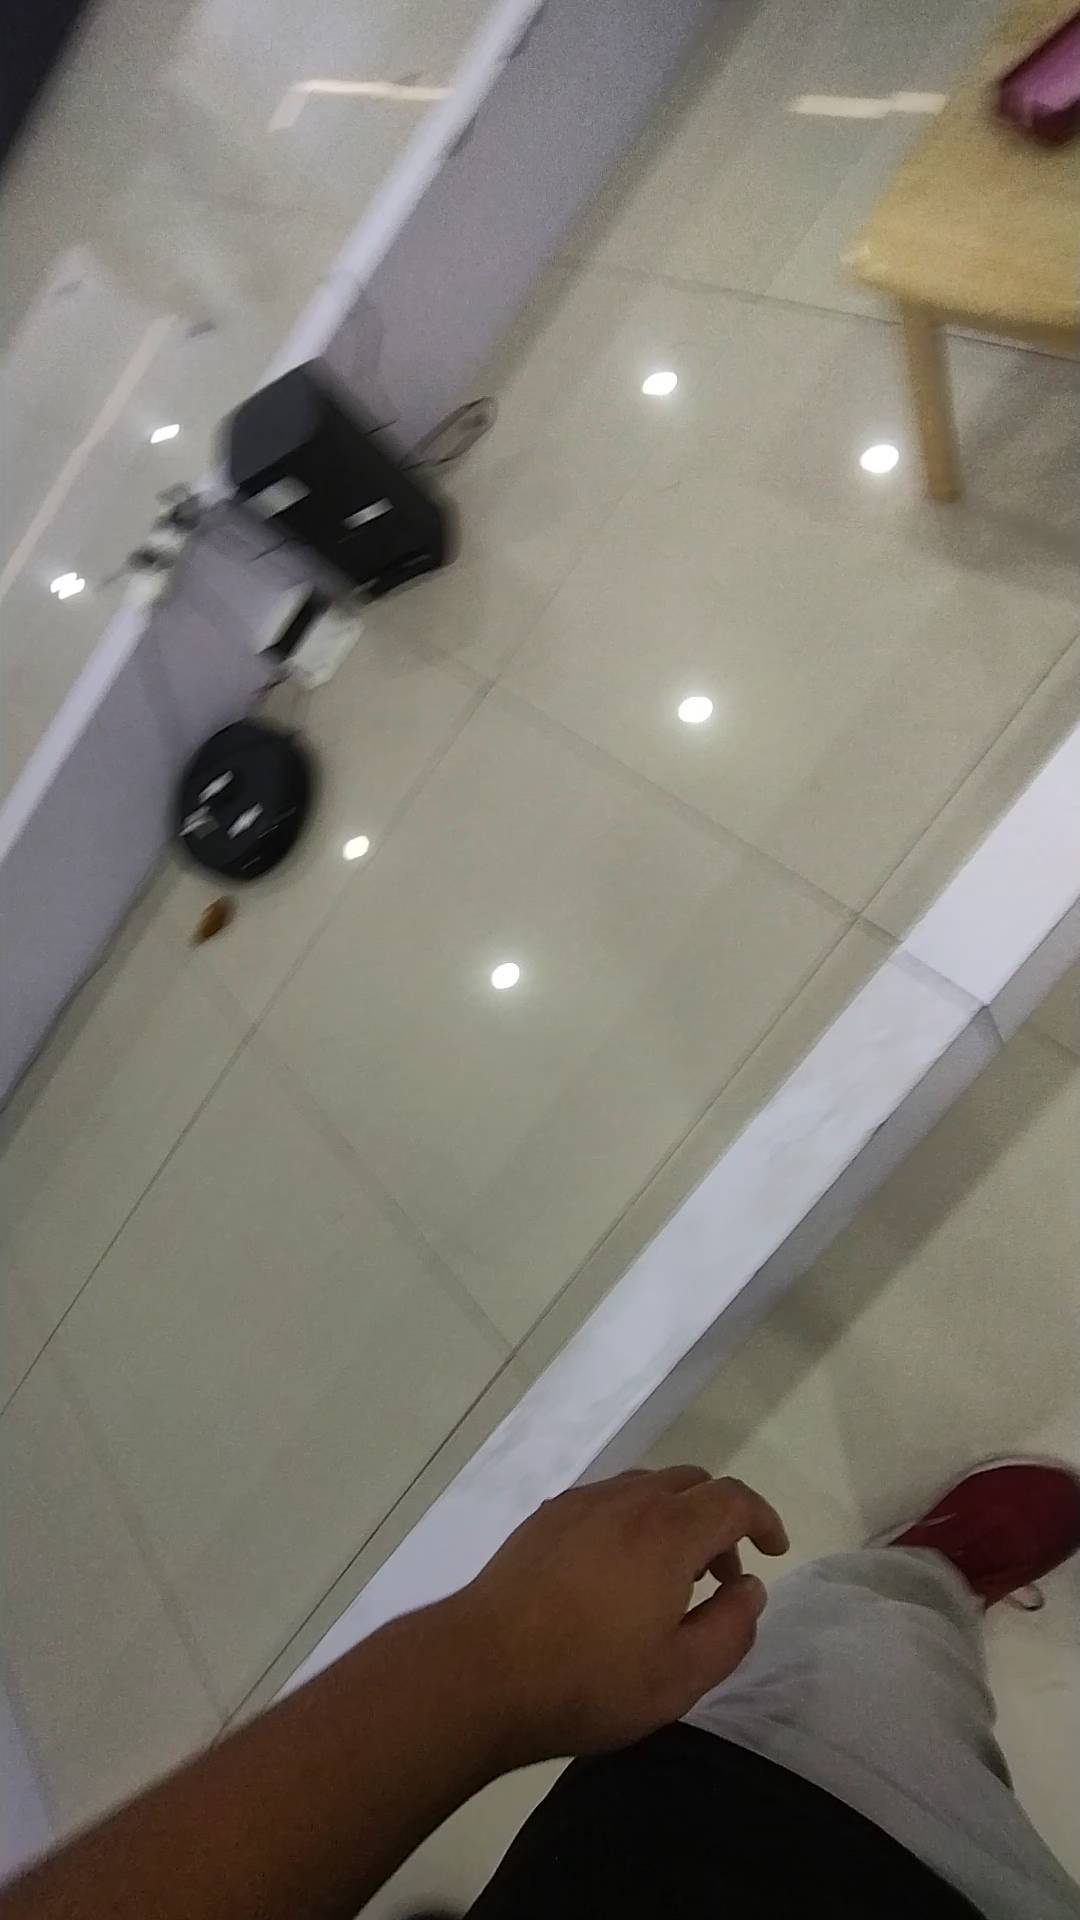dust collecting barrel: (228, 361, 452, 597)
recharge seat: (255, 578, 367, 694)
